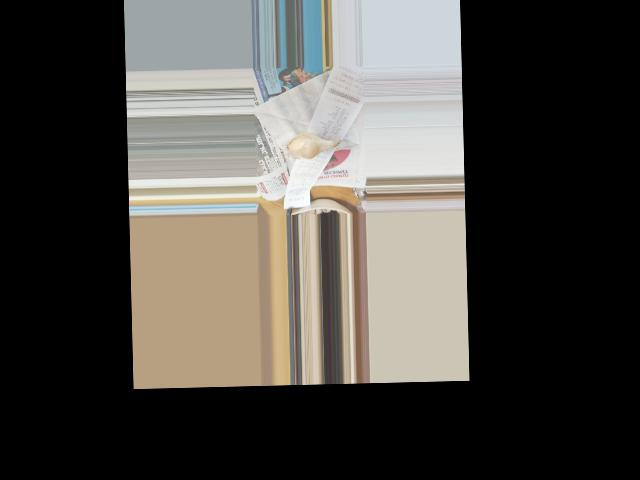onion: (289, 130, 326, 159)
